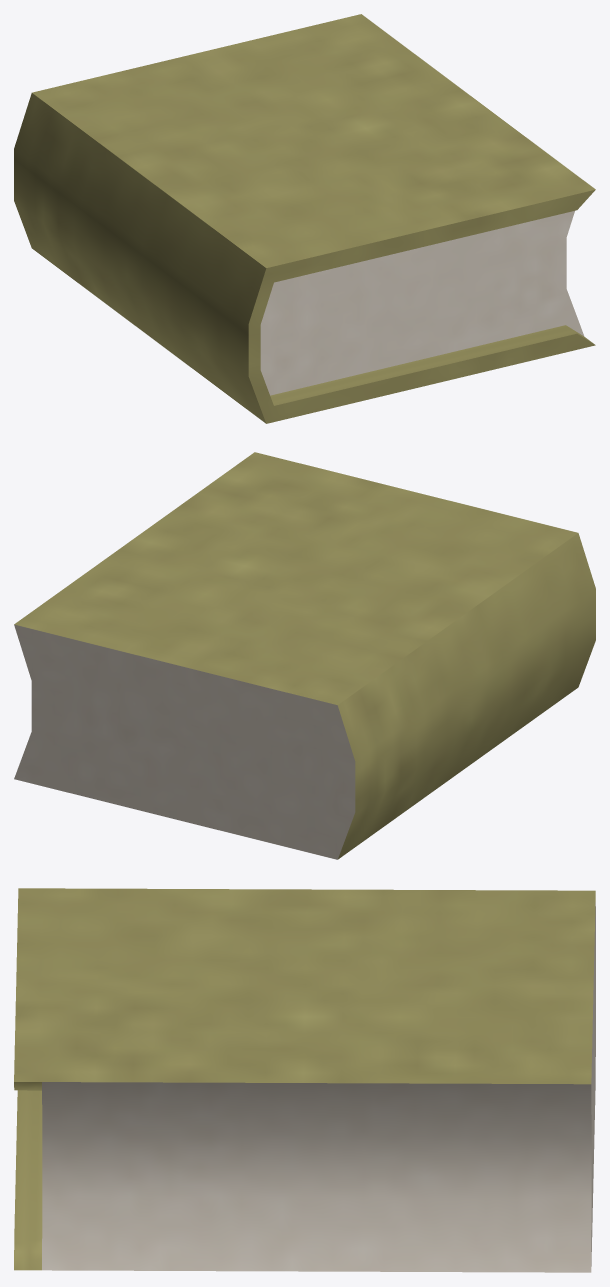
File: SM_Book_01.fbx
3 views of the same model, one above another, from view 1: azimuth 30°, elevation 25°; view 2: azimuth 150°, elevation 25°; view 3: azimuth 270°, elevation 25° (orthographic). The views are drawn at different scales.
Visible parts, largest first — view 1: SM_Book_03; view 2: SM_Book_03; view 3: SM_Book_03.
Boxes of the visible parts, bbox=[...] form: SM_Book_03: bbox=[14, 14, 595, 423]; SM_Book_03: bbox=[14, 452, 595, 859]; SM_Book_03: bbox=[14, 888, 595, 1272].
Bounding box in the file's own units: 36.15 × 15.39 × 43.08.
